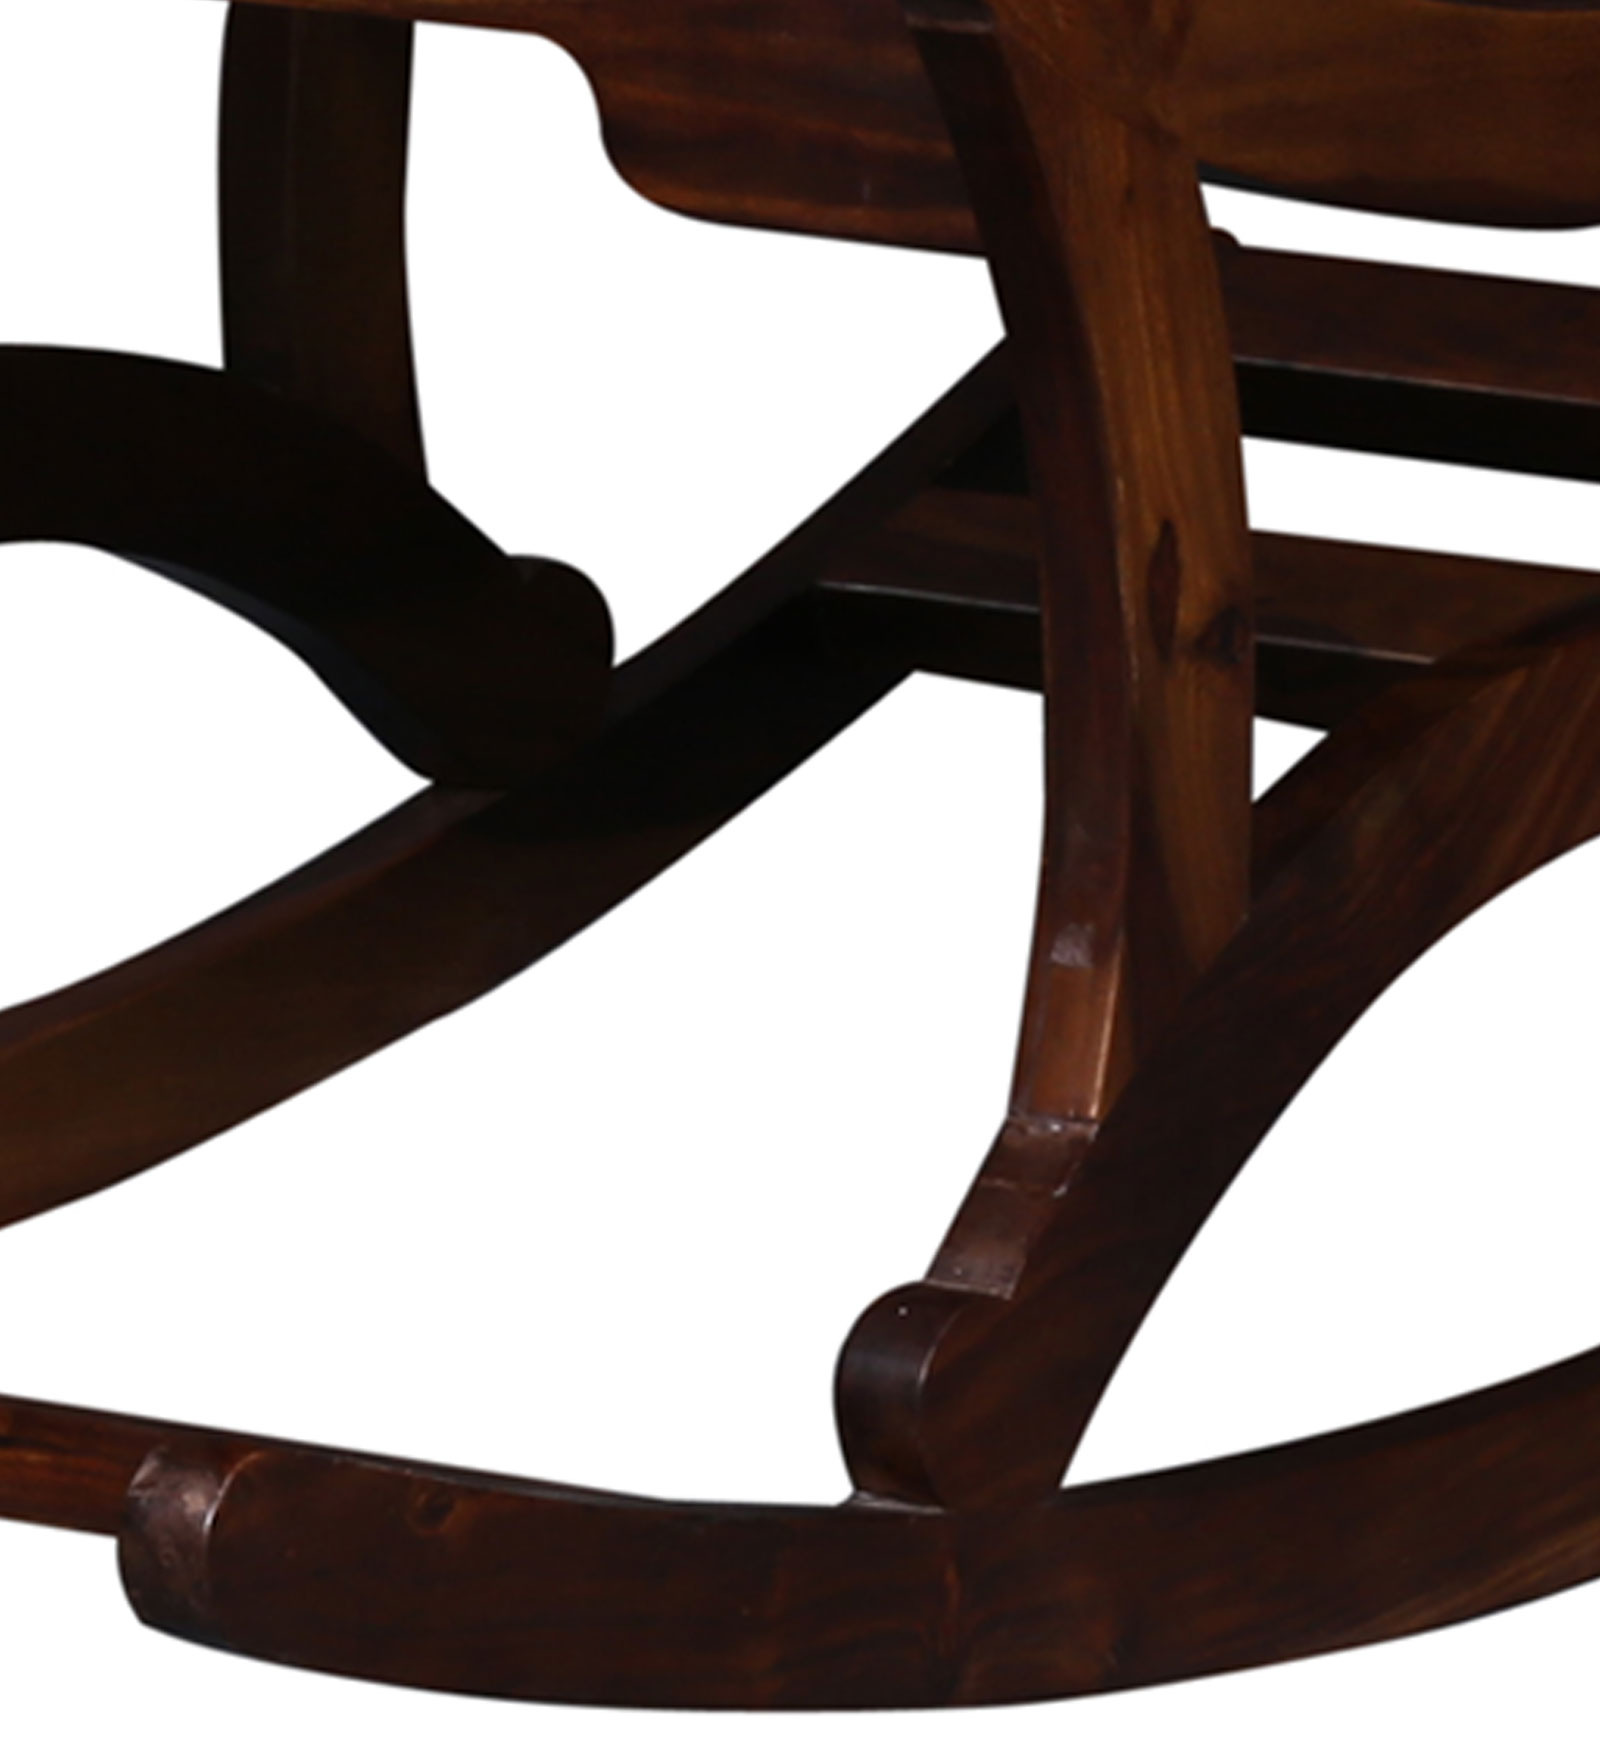Wellesley Rocking Chair in Provincial Teak Finish by Amberville: (55, 18, 1588, 1714)
